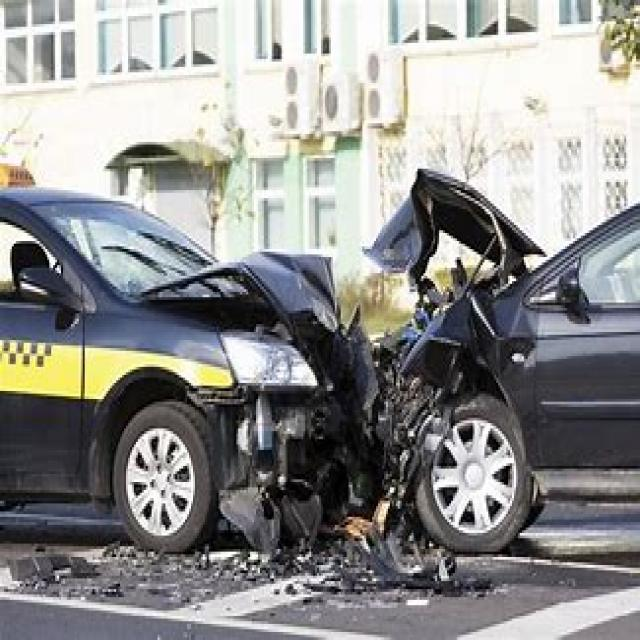Accident: (237, 175, 526, 618)
